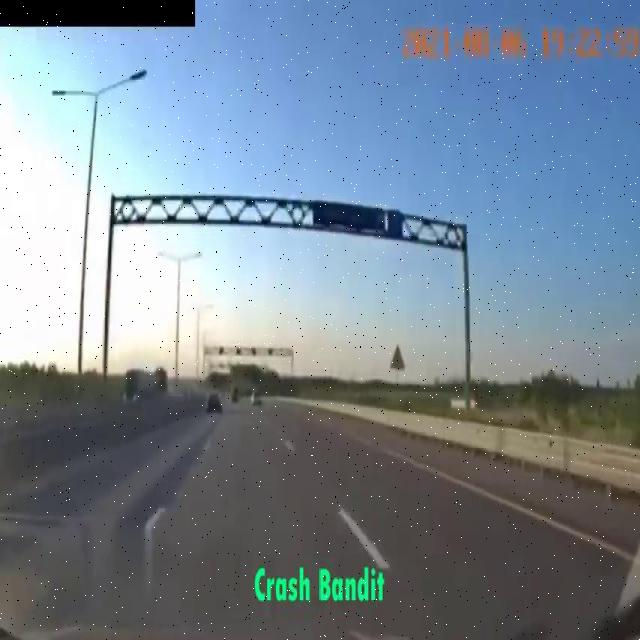severe: (122, 363, 172, 409)
